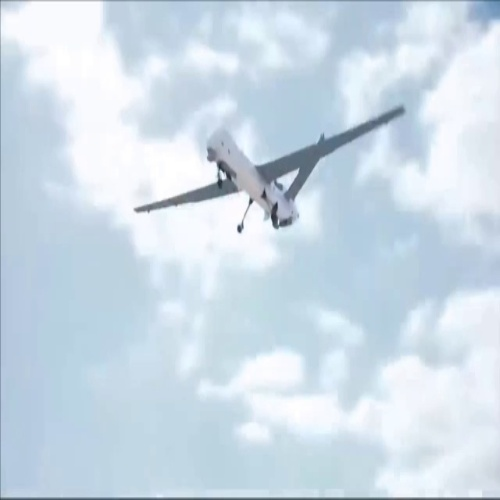uav829: (133, 107, 407, 237)
